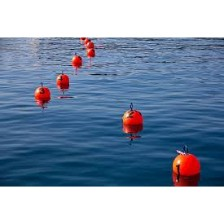buoy: (172, 153, 201, 177), (122, 110, 143, 129), (35, 88, 51, 104), (56, 75, 70, 88), (71, 56, 82, 67), (86, 48, 96, 57), (85, 41, 95, 50)
